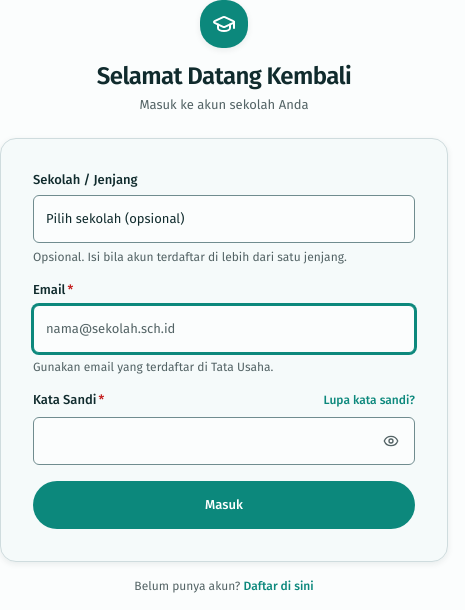
it: SignInPage › toggles password visibility
The image size is (465, 610).
Click the button named "Tampilkan kata sandi" at (391, 441), box [371,421,411,461]
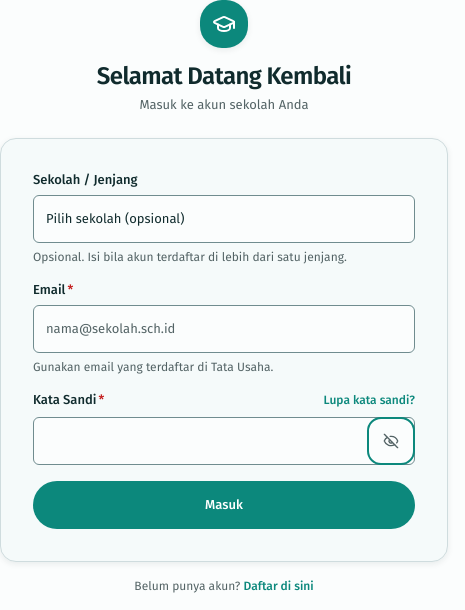
Now the button named "Sembunyikan kata sandi" is shown, box [371,421,411,461]
